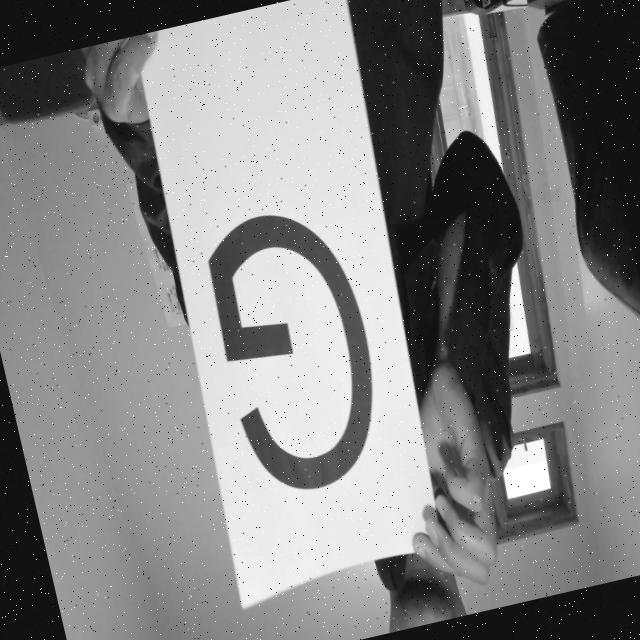g: (172, 142, 416, 524)
